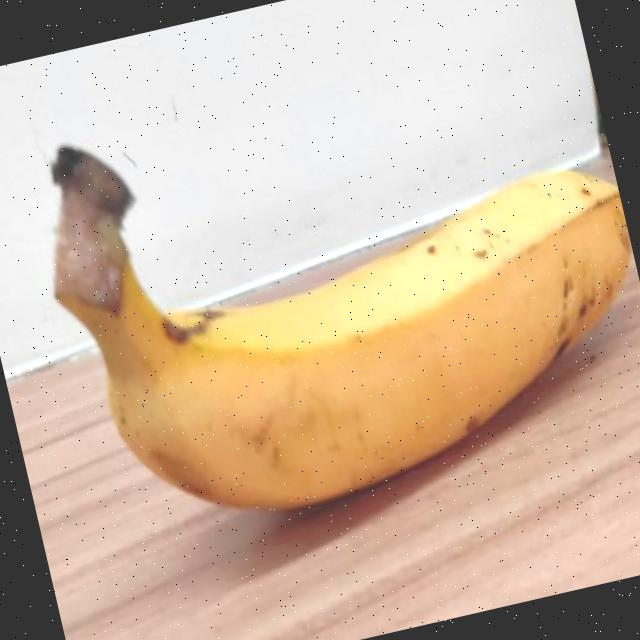Ripe: (5, 16, 640, 583)
